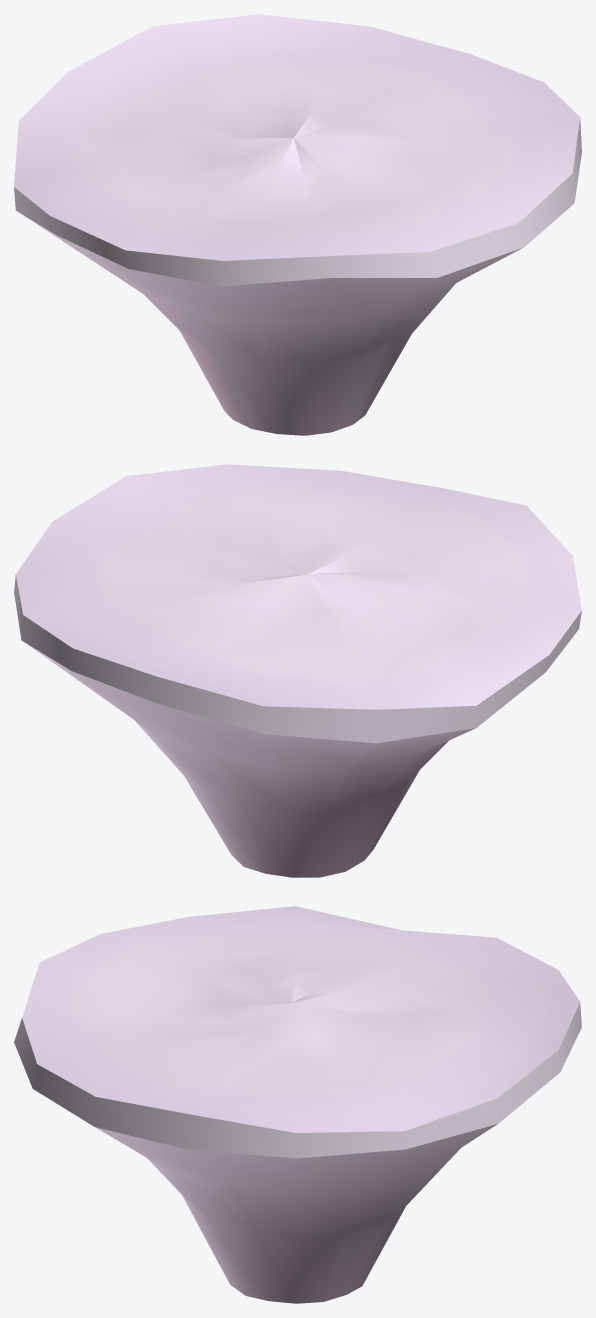
Rendered from coral.glb.
3 renders of one model, top to bottom at view 1: azimuth 30°, elevation 25°; view 2: azimuth 150°, elevation 25°; view 3: azimuth 270°, elevation 25°, orthographic.
Visible parts, largest first — view 1: Cylinder.008; view 2: Cylinder.008; view 3: Cylinder.008.
Boxes of the visible parts, <box> form: Cylinder.008: <box>14,14,581,435</box>; Cylinder.008: <box>14,464,581,877</box>; Cylinder.008: <box>14,906,581,1303</box>.
Size of the model in its own units: 1.77 by 0.9416 by 1.78.
1 material, 1 textured.
